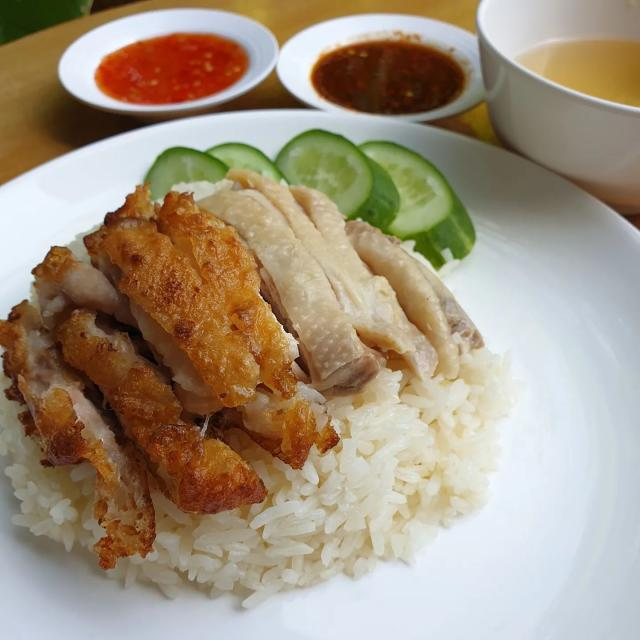Hainanese chicken rice: (22, 154, 576, 611)
carb: (30, 439, 520, 614)
meat: (44, 225, 477, 391)
vegetable: (169, 136, 447, 220)
